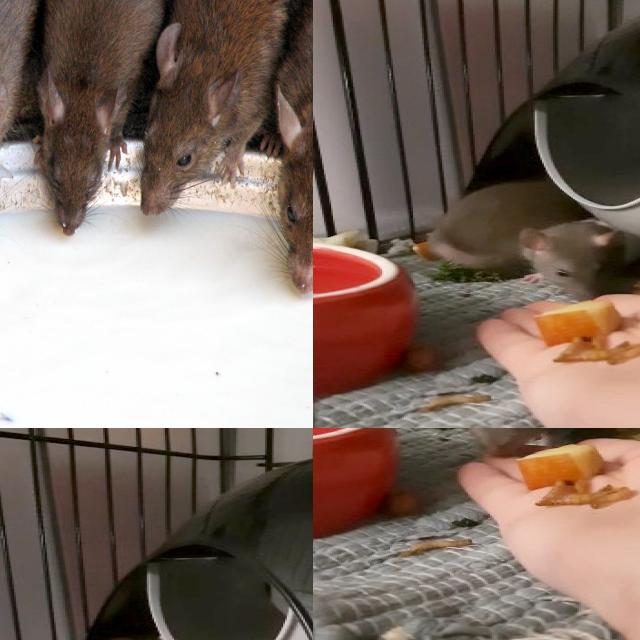rat: (138, 0, 313, 219), (44, 0, 160, 235), (0, 0, 37, 259), (520, 218, 627, 303), (283, 0, 313, 295), (455, 428, 633, 456)
